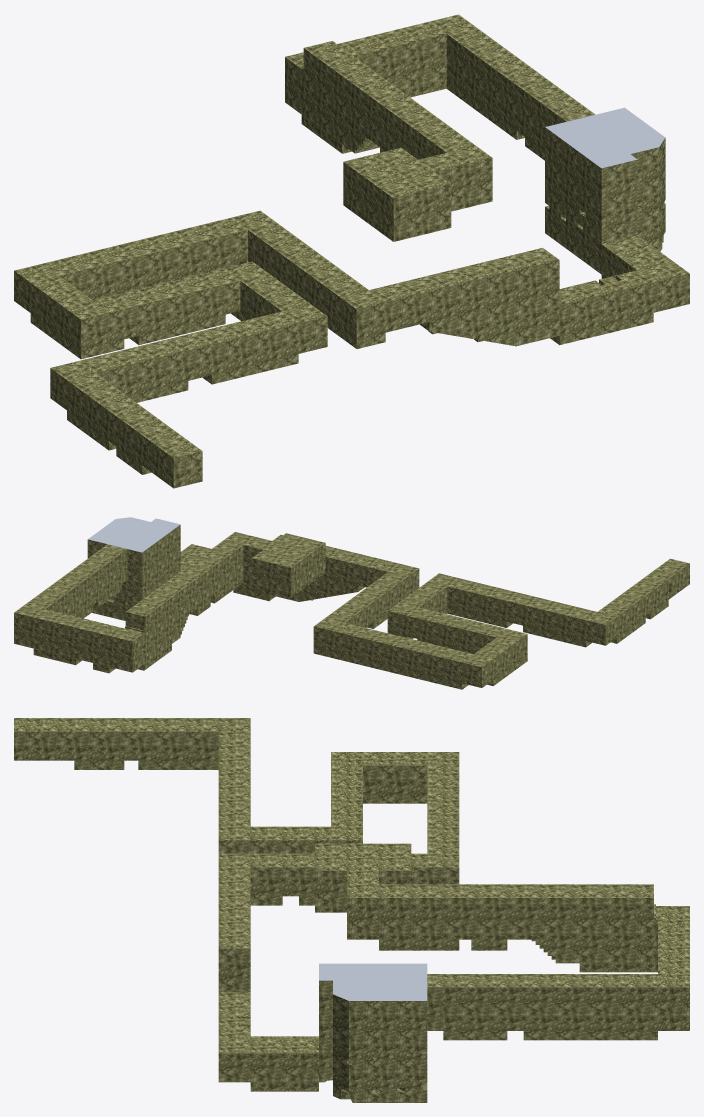
Rendered from bkz_goldbhop.glb.
3 views of the same model, one above another, from view 1: azimuth 30°, elevation 25°; view 2: azimuth 150°, elevation 25°; view 3: azimuth 270°, elevation 25° (orthographic). The views are drawn at different scales.
Visible parts, largest first — view 1: bkz_goldbhop_static, bkz_goldbhop_sky; view 2: bkz_goldbhop_static, bkz_goldbhop_sky; view 3: bkz_goldbhop_static, bkz_goldbhop_sky.
Part boxes in pixels (x1,y1,x2,y2): bkz_goldbhop_static: (14, 14, 689, 488); bkz_goldbhop_sky: (545, 107, 665, 168); bkz_goldbhop_static: (14, 525, 689, 689); bkz_goldbhop_sky: (88, 517, 180, 552); bkz_goldbhop_static: (14, 718, 689, 1102); bkz_goldbhop_sky: (319, 963, 427, 1000).
Bounding box in the file's own units: 150 × 29.67 × 137.
24 materials, 23 textured.
